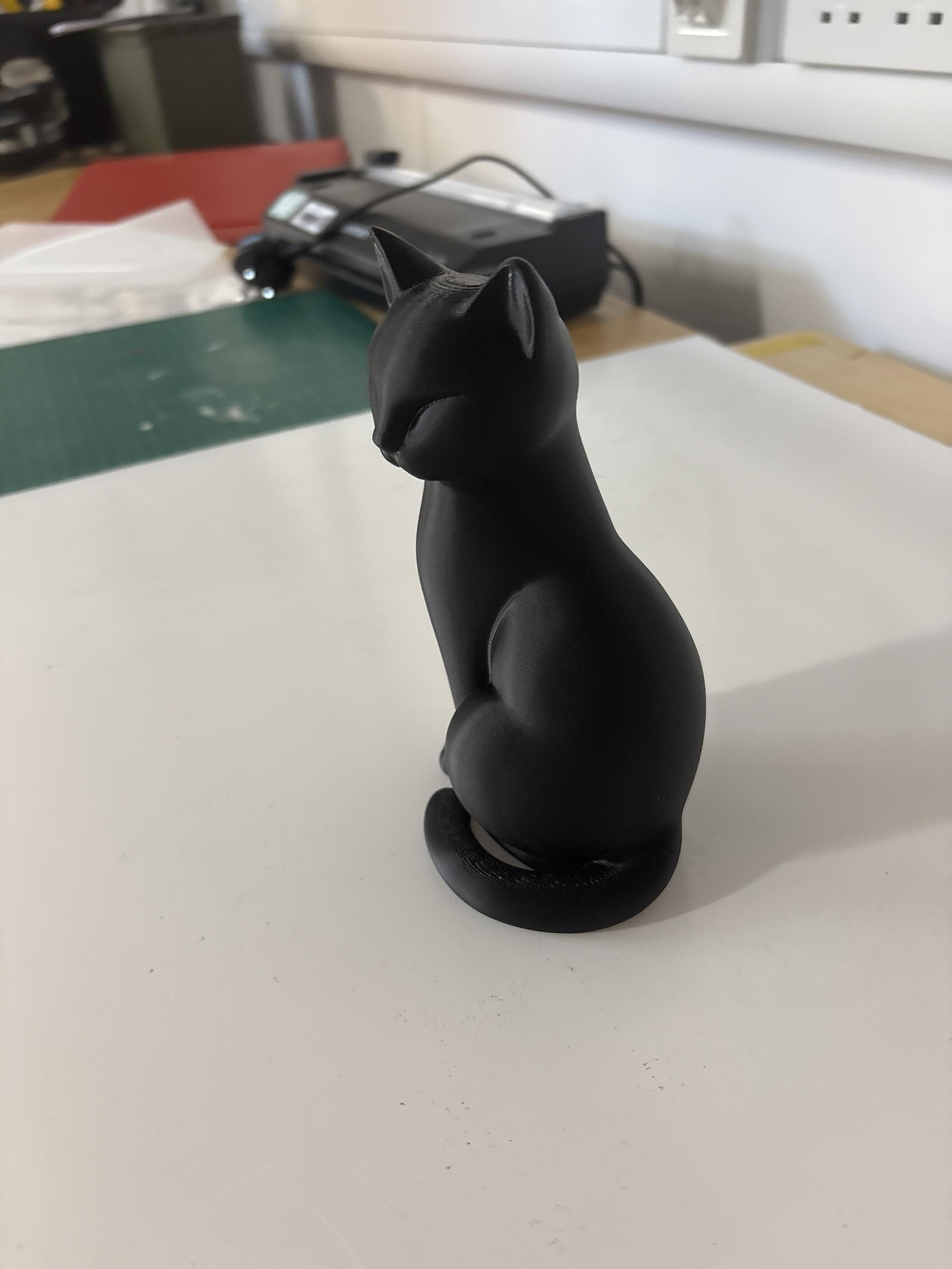cat: (370, 230, 705, 931)
